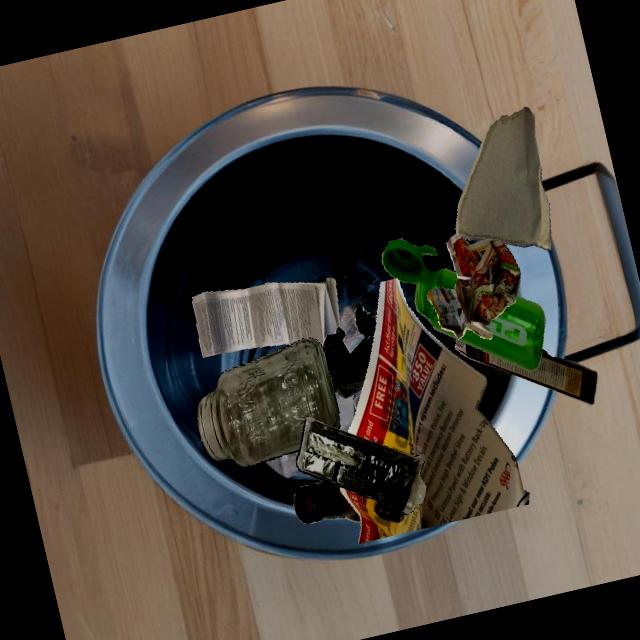cardboard: (455, 106, 551, 250), (455, 338, 597, 405)
glass: (197, 337, 340, 468), (293, 479, 360, 523)
paper: (339, 278, 529, 543), (191, 277, 340, 357), (426, 234, 520, 339)
plastic: (381, 238, 545, 370), (296, 416, 426, 514), (321, 303, 376, 398), (353, 390, 362, 409), (353, 388, 362, 399), (353, 402, 356, 418)
